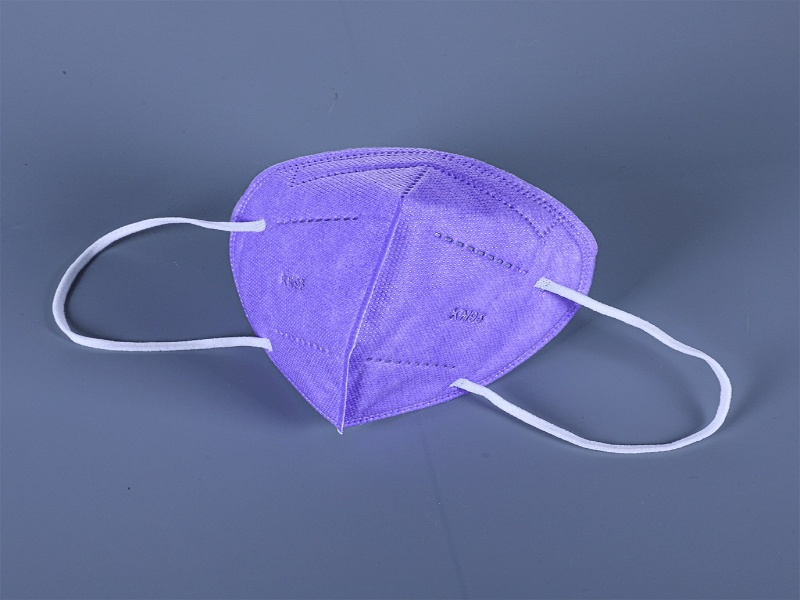mask: (225, 138, 600, 446)
